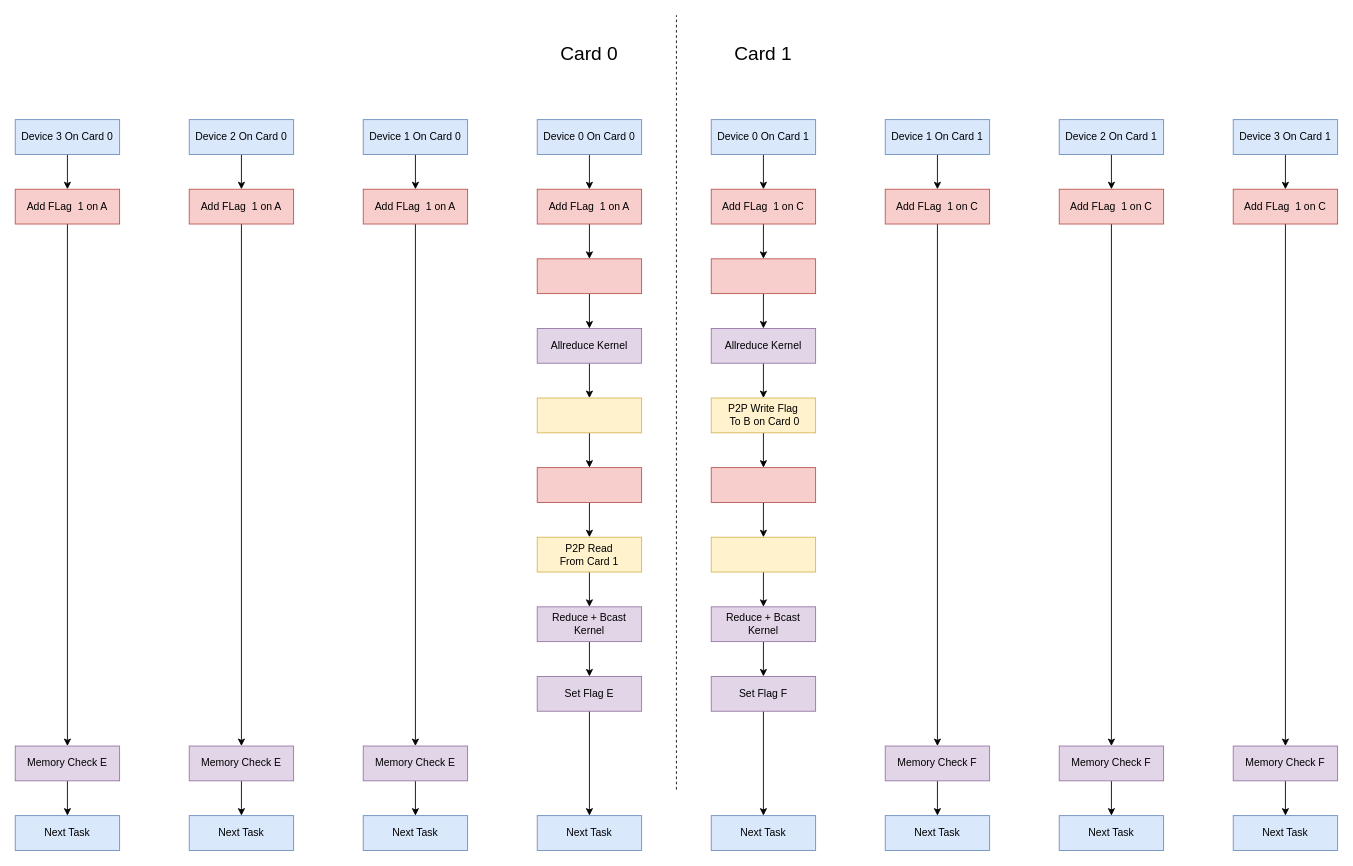
The diagram is 1353 pixels wide and 866 high, and some of its shapes have lost their labels. Each missing label, with the centre of its shape:
Memory Check A Equal 4: point (589, 276)
Memory Check B: point (589, 484)
Memory Check C Equal 4: point (763, 276)
Memory Check D: point (763, 484)
P2P Read From Card 0: point (763, 554)
P2P Write Flag To D on Card 1: point (589, 415)
